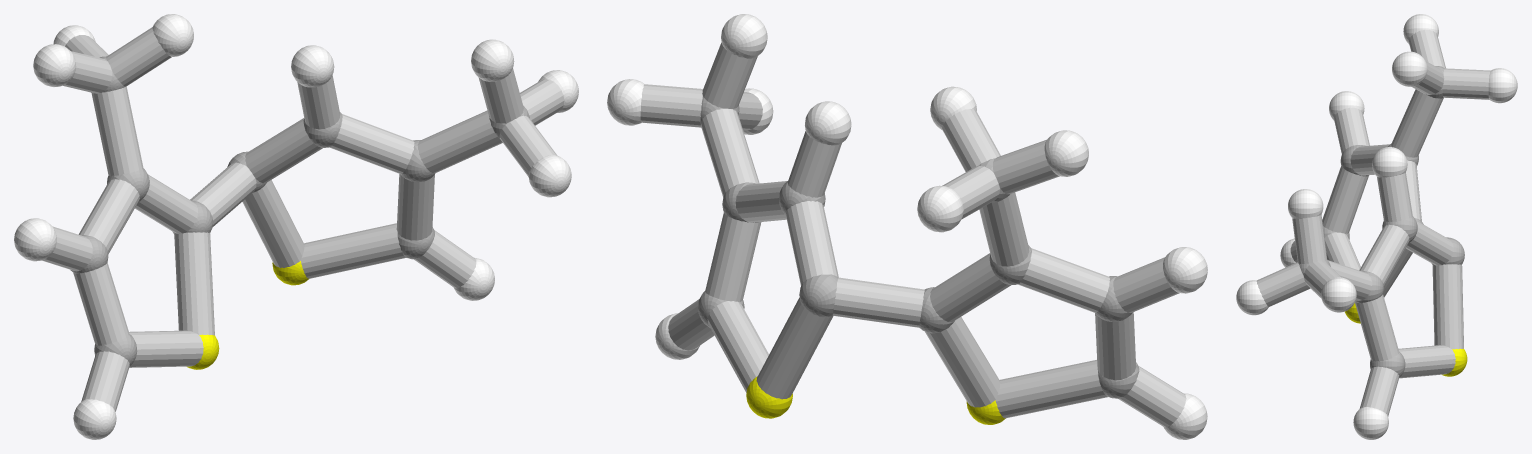
The model's file is Methylthiophene_Phi_60_Theta_220_Methylthiophene.glb.
3 renders of one model, left to right at view 1: azimuth 30°, elevation 25°; view 2: azimuth 150°, elevation 25°; view 3: azimuth 270°, elevation 25°, orthographic. The views are drawn at different scales.
Parts seen in each view (by area): view 1: grp7965, grp3621, grp1, grp7241; view 2: grp7965, grp3621, grp1, grp7241; view 3: grp7965, grp3621, grp1, grp7241.
Part boxes in pixels (x1=…): grp7965: x1=42, y1=27, x2=564, y2=411; grp3621: x1=14, y1=14, x2=578, y2=439; grp1: x1=70, y1=56, x2=529, y2=365; grp7241: x1=187, y1=261, x2=308, y2=369; grp7965: x1=640, y1=42, x2=1186, y2=427; grp3621: x1=607, y1=14, x2=1207, y2=439; grp1: x1=698, y1=96, x2=1139, y2=398; grp7241: x1=746, y1=376, x2=1005, y2=424; grp7965: x1=1256, y1=29, x2=1490, y2=416; grp3621: x1=1236, y1=14, x2=1517, y2=439; grp1: x1=1299, y1=66, x2=1464, y2=377; grp7241: x1=1345, y1=303, x2=1467, y2=376.
Bounding box in the file's own units: 8.88 × 5.16 × 4.75.
